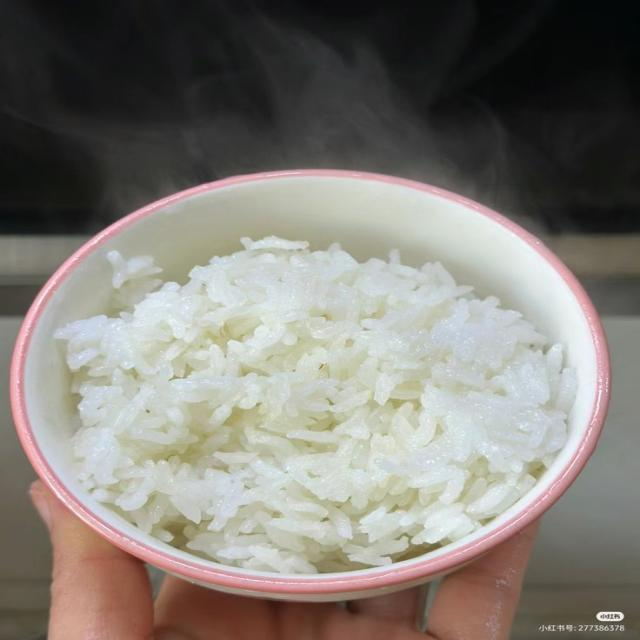rice: (57, 238, 575, 572)
